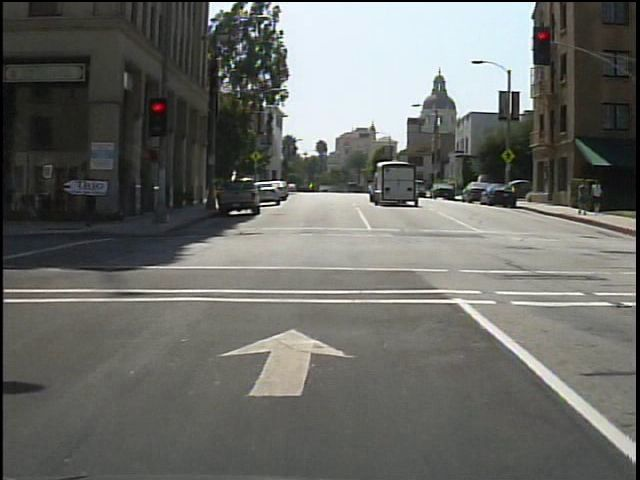person: (76, 169, 112, 234), (576, 179, 593, 220), (590, 178, 606, 218)
